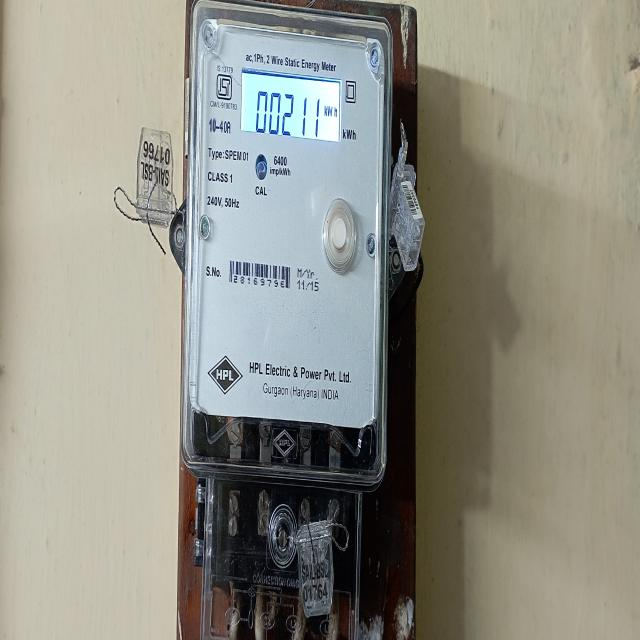display: (238, 80, 343, 152)
